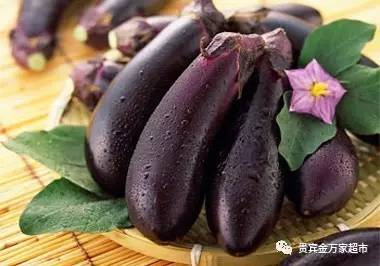fruit_eggplant: (109, 30, 266, 248)
